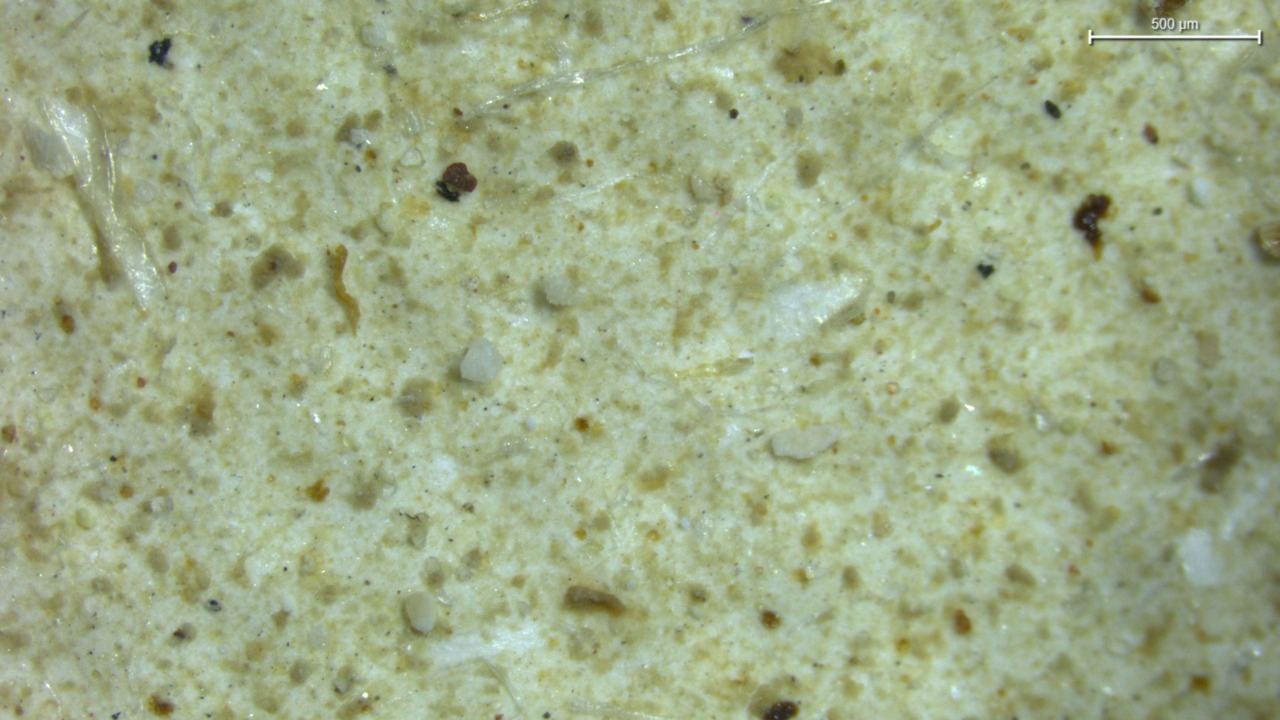microplastic_fragment: (771, 424, 839, 460), (460, 338, 503, 382), (404, 592, 438, 634), (540, 274, 576, 306)
